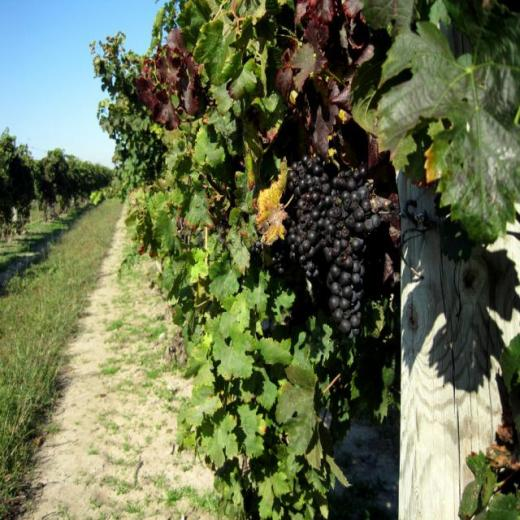Orange: (261, 152, 378, 340)
